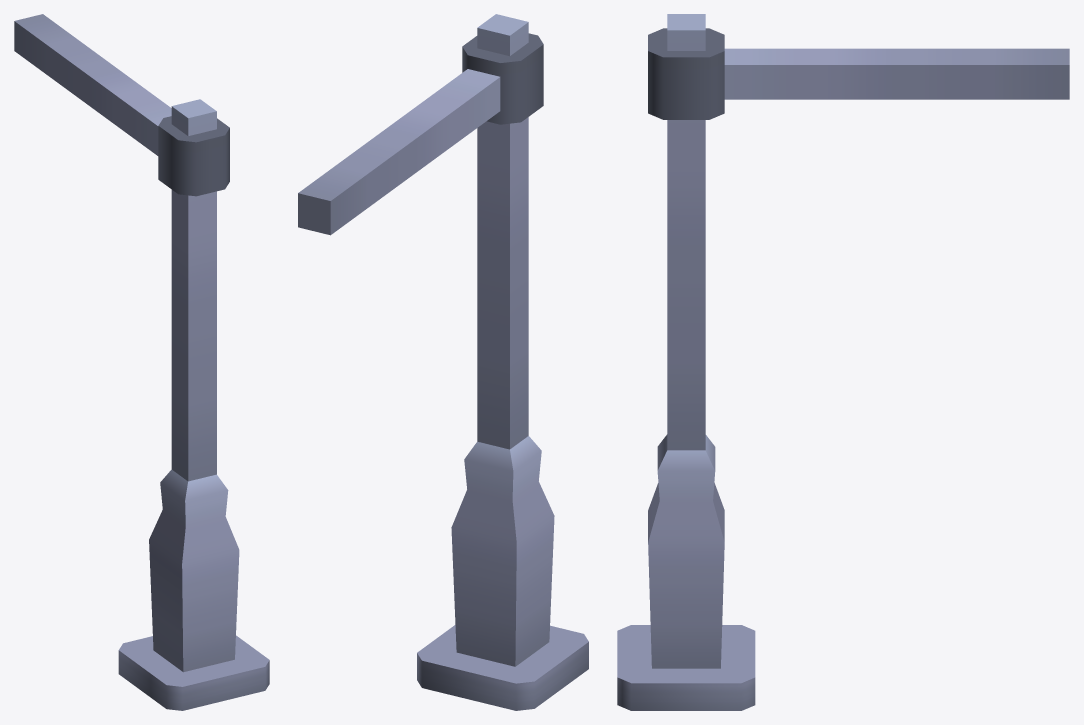
File: road-sign-empty-hanging.glb
The picture shows the model from 3 angles, left to right: view 1: azimuth 30°, elevation 25°; view 2: azimuth 150°, elevation 25°; view 3: azimuth 270°, elevation 25°; orthographic projection. The views are drawn at different scales.
Parts seen in each view (by area): view 1: road-sign-empty-hanging; view 2: road-sign-empty-hanging; view 3: road-sign-empty-hanging.
Boxes of the visible parts, x1,y1,x2,y2 form: road-sign-empty-hanging: (14,14,269,710); road-sign-empty-hanging: (298,14,588,710); road-sign-empty-hanging: (617,14,1069,710).
Bounding box in the file's own units: 0.09 × 0.475 × 0.295.
Materials: 1 (1 with a texture image).
